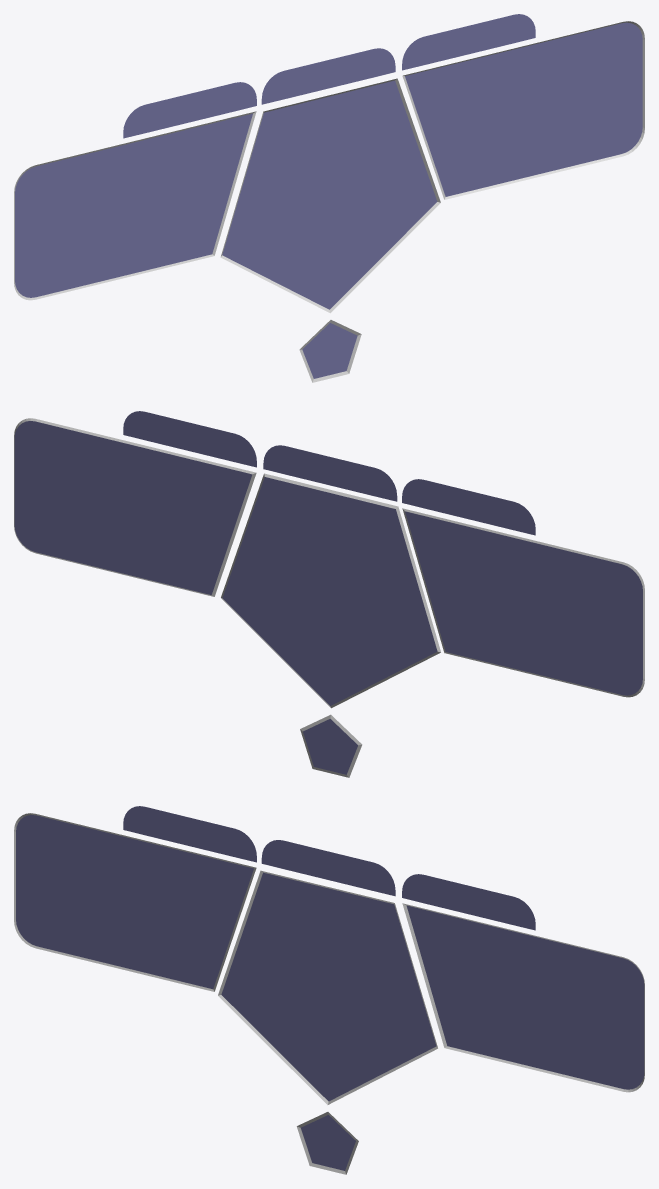
The model's file is UI_Controller.fbx.
The picture shows the model from 3 angles, top to bottom: view 1: azimuth 30°, elevation 25°; view 2: azimuth 150°, elevation 25°; view 3: azimuth 330°, elevation 25°; orthographic projection.
Parts seen in each view (by area): view 1: Core, Tab004, Tab002, Tab001, Tab, Tab003, Close; view 2: Core, Tab004, Tab002, Tab001, Tab, Tab003, Close; view 3: Core, Tab002, Tab004, Tab003, Tab, Tab001, Close.
Boxes of the visible parts, x1=… form: Core: x1=220, y1=78, x2=440, y2=313; Tab004: x1=14, y1=111, x2=256, y2=300; Tab002: x1=402, y1=21, x2=644, y2=199; Tab001: x1=261, y1=48, x2=395, y2=104; Tab: x1=402, y1=14, x2=535, y2=70; Tab003: x1=123, y1=82, x2=256, y2=138; Close: x1=299, y1=320, x2=361, y2=382; Core: x1=221, y1=473, x2=440, y2=708; Tab004: x1=402, y1=508, x2=644, y2=697; Tab002: x1=14, y1=418, x2=256, y2=596; Tab001: x1=263, y1=445, x2=397, y2=501; Tab: x1=123, y1=411, x2=256, y2=467; Tab003: x1=402, y1=479, x2=535, y2=535; Close: x1=300, y1=714, x2=362, y2=777; Core: x1=218, y1=870, x2=437, y2=1104; Tab002: x1=402, y1=903, x2=644, y2=1092; Tab004: x1=14, y1=813, x2=256, y2=991; Tab003: x1=123, y1=806, x2=256, y2=862; Tab: x1=402, y1=874, x2=535, y2=930; Tab001: x1=261, y1=840, x2=395, y2=896; Close: x1=296, y1=1112, x2=358, y2=1174.
Size of the model in its own units: 230 by 110 by 1.39.
